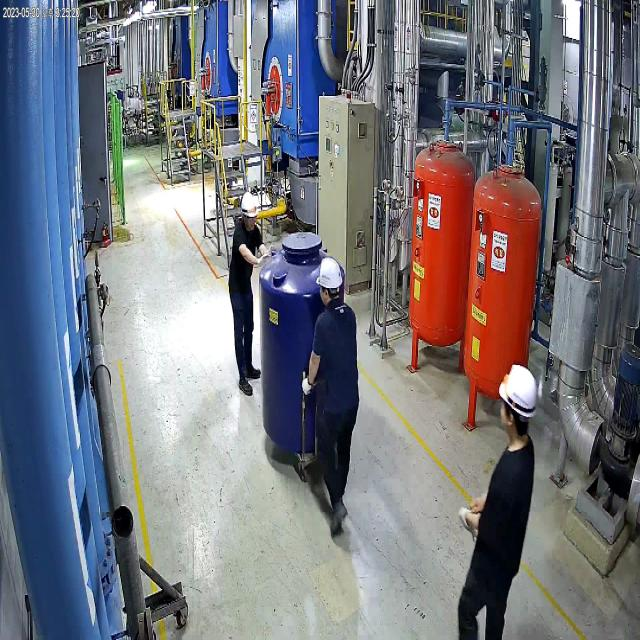Water Tank: (252, 227, 344, 480)
worker: (449, 362, 544, 640), (299, 256, 362, 556), (220, 178, 277, 398)
